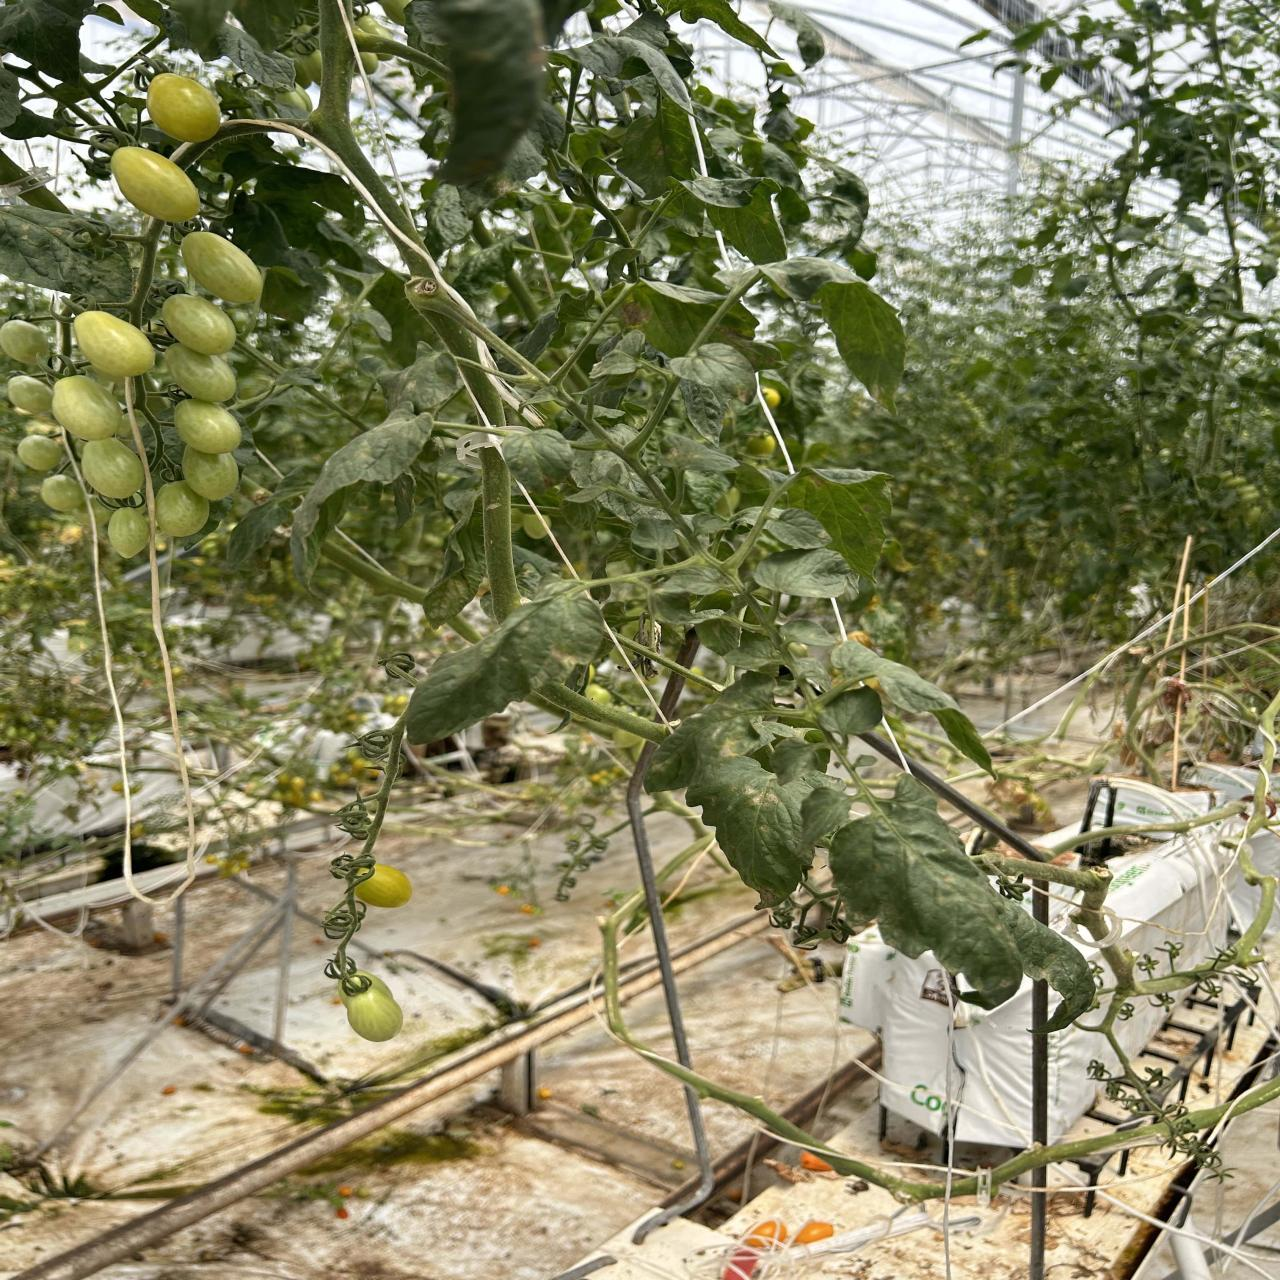Hoja: (830, 779, 1024, 1005), (407, 581, 604, 741), (291, 409, 433, 584), (686, 756, 850, 905), (758, 257, 905, 401), (782, 468, 891, 576), (669, 342, 755, 441), (753, 549, 860, 599), (503, 430, 574, 493), (631, 512, 678, 551)
Pedunculo: (279, 0, 524, 427), (531, 682, 672, 743), (322, 531, 427, 601), (481, 449, 517, 602), (129, 216, 166, 326), (172, 122, 251, 173)
Tomate: (111, 147, 199, 223), (181, 232, 263, 304), (73, 311, 155, 379), (147, 74, 220, 143), (52, 375, 121, 441), (162, 294, 236, 355), (342, 972, 402, 1042), (164, 343, 236, 402), (173, 399, 241, 455), (82, 437, 143, 498), (182, 444, 239, 501), (156, 481, 209, 537), (355, 863, 411, 907), (107, 506, 150, 559)
